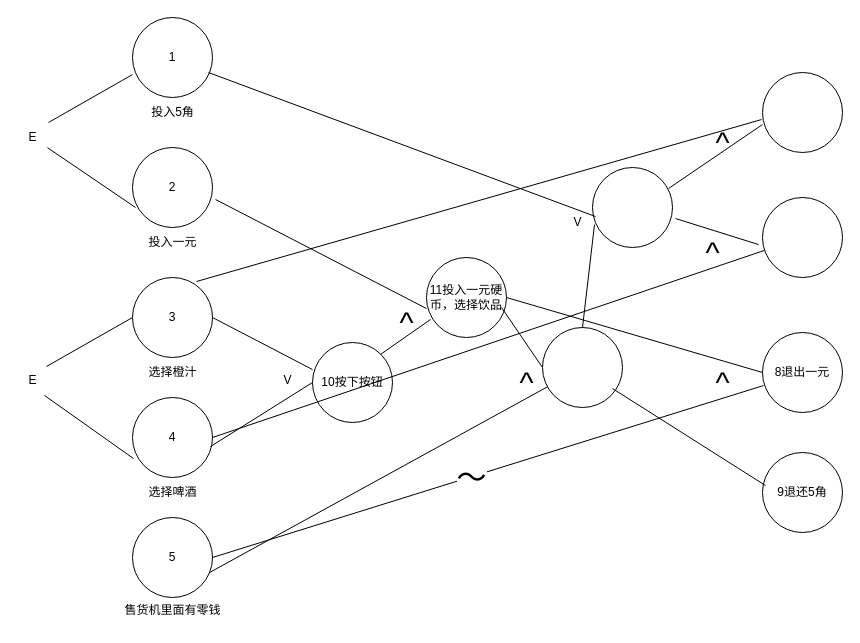
This 860x643 diagram has some shape labels left out. Here are the shapes that lost their labels. From the top down, the centre of each, then its label:
pixel 802 112: 6送出橙汁
pixel 632 207: 13钱已付清
pixel 802 237: 7送出啤酒
pixel 582 367: 12退还5角且有售货机零钱
